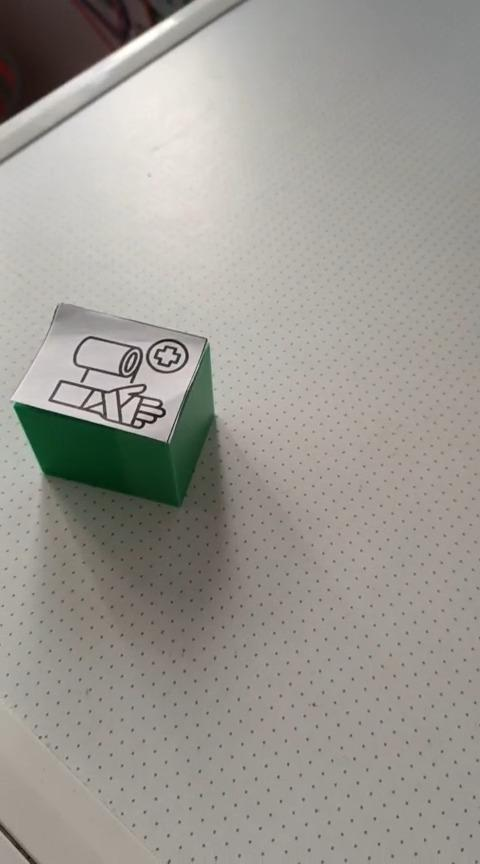Bandages: (11, 301, 214, 507)
